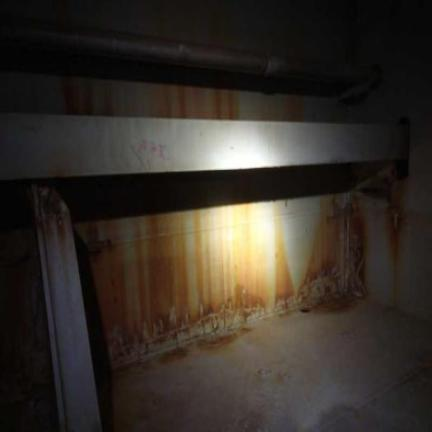besi_tidak_karat: (0, 113, 408, 180)
